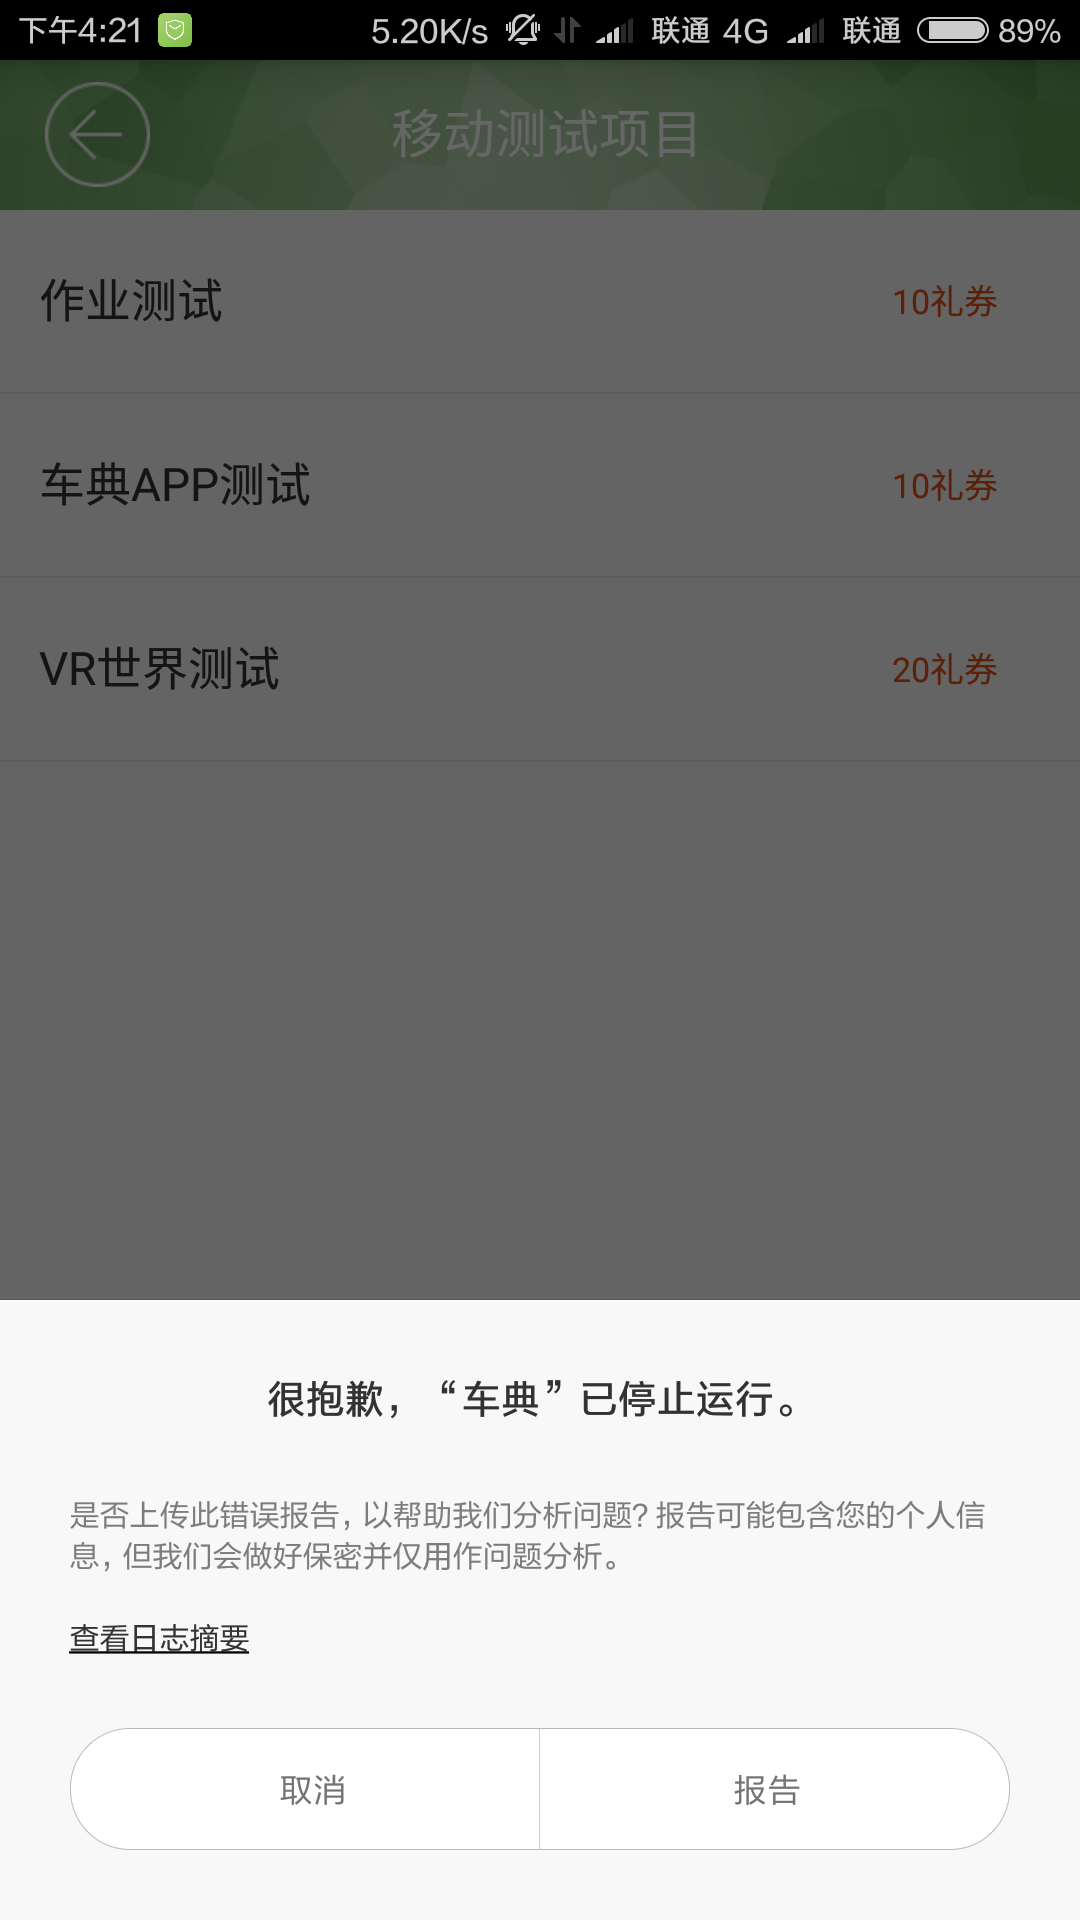alert: (4, 1284, 1080, 1917)
button: (527, 1708, 1021, 1865), (61, 1720, 551, 1855)
textview: (51, 1476, 1010, 1600), (245, 1357, 843, 1433)
